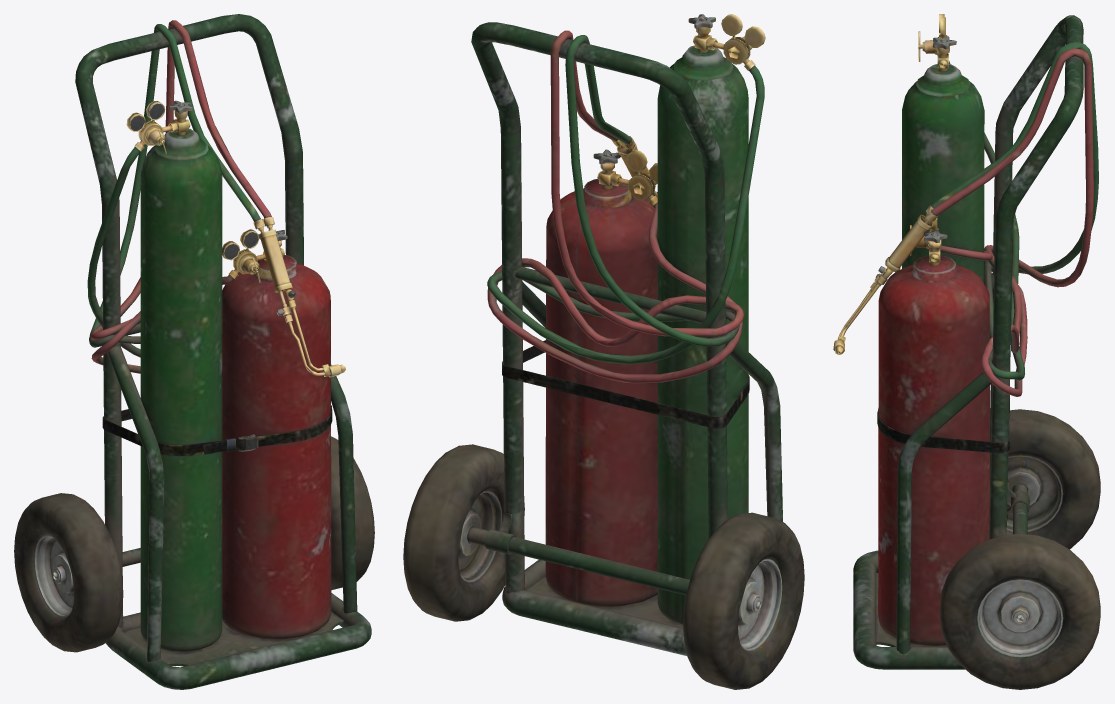
The model's file is portable_welding_cart.glb.
3 renders of one model, left to right at view 1: azimuth 30°, elevation 25°; view 2: azimuth 150°, elevation 25°; view 3: azimuth 270°, elevation 25°, orthographic. The views are drawn at different scales.
Visible parts, largest first — view 1: portable_welding_cart; view 2: portable_welding_cart; view 3: portable_welding_cart.
Part boxes in pixels (box(x1,y1,x2,y2)): portable_welding_cart: box(14, 14, 374, 689); portable_welding_cart: box(403, 14, 804, 689); portable_welding_cart: box(833, 14, 1100, 689).
Bounding box in the file's own units: 0.8365 × 1.56 × 0.655.
Materials: 2 (2 with a texture image).
